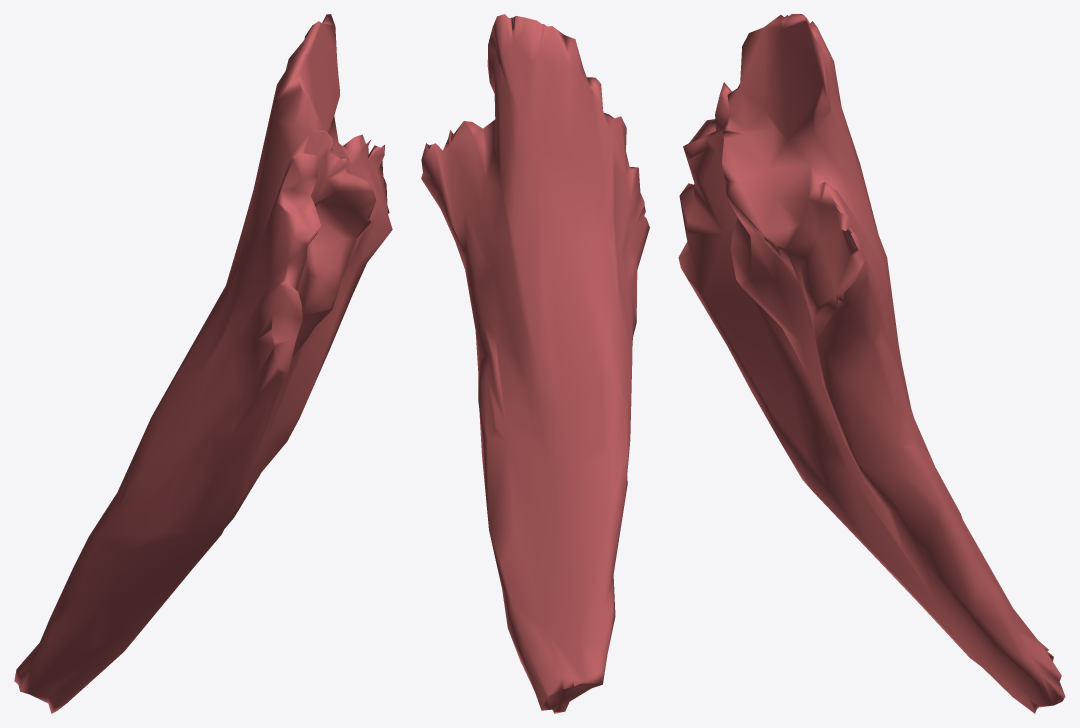
3 renders of one model, left to right at view 1: azimuth 30°, elevation 25°; view 2: azimuth 150°, elevation 25°; view 3: azimuth 270°, elevation 25°, orthographic. The views are drawn at different scales.
Parts seen in each view (by area): view 1: 左侧踇收肌斜头; view 2: 左侧踇收肌斜头; view 3: 左侧踇收肌斜头.
Boxes of the visible parts, <box> form: 左侧踇收肌斜头: <box>14,14,392,713</box>; 左侧踇收肌斜头: <box>421,14,649,713</box>; 左侧踇收肌斜头: <box>678,14,1065,713</box>.
Bounding box in the file's own units: 0.0413 × 0.0984 × 0.0443.
